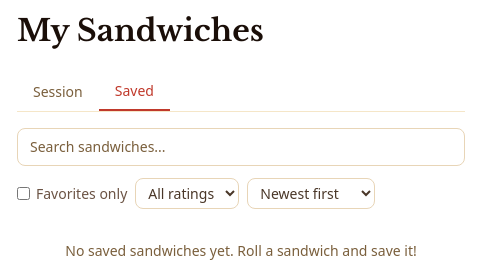
Test: HistoryPage › session history tab › shows empty state when no session entries exist
Step 1. Click the tab "Session" → (58, 92), box [17,73,99,111]
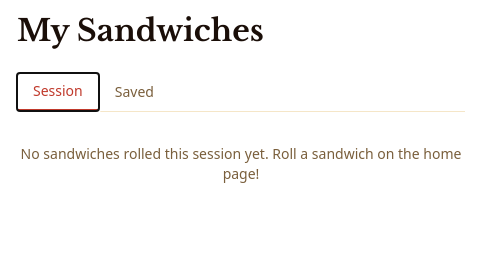
Result: the text "No sandwiches rolled" is shown at [21,144,461,183]
